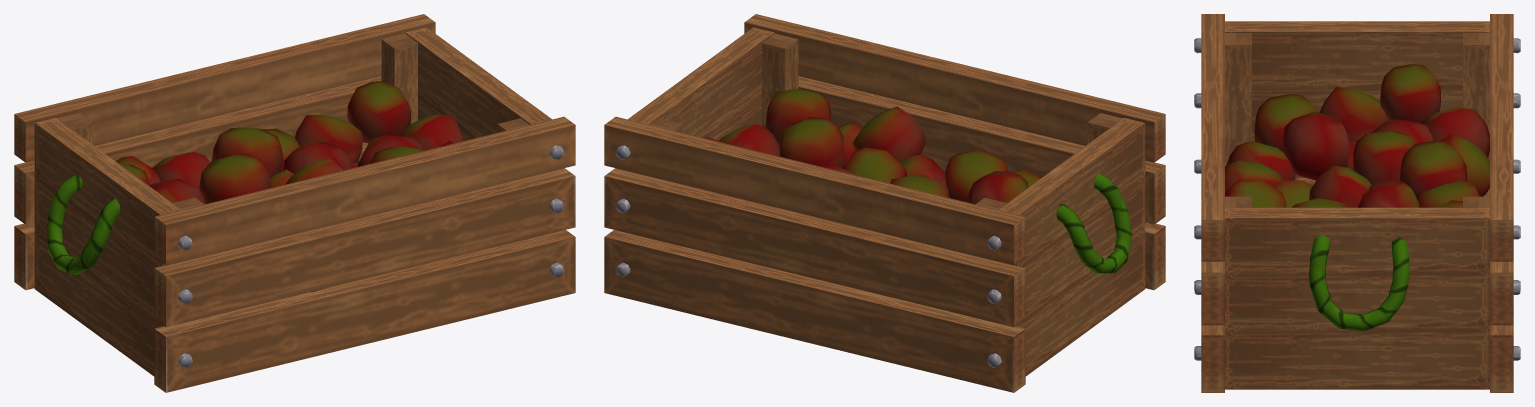
File: FarmCrate_Apple.glb
The picture shows the model from 3 angles, left to right: view 1: azimuth 30°, elevation 25°; view 2: azimuth 150°, elevation 25°; view 3: azimuth 270°, elevation 25°; orthographic projection. The views are drawn at different scales.
Visible parts, largest first — view 1: FarmCrate_Apple; view 2: FarmCrate_Apple; view 3: FarmCrate_Apple.
Boxes of the visible parts, x1,y1,x2,y2 form: FarmCrate_Apple: [14, 14, 575, 392]; FarmCrate_Apple: [604, 14, 1165, 392]; FarmCrate_Apple: [1194, 14, 1520, 392].
Bounding box in the file's own units: 0.7138 × 0.2438 × 0.4142.
3 materials, 3 textured.
